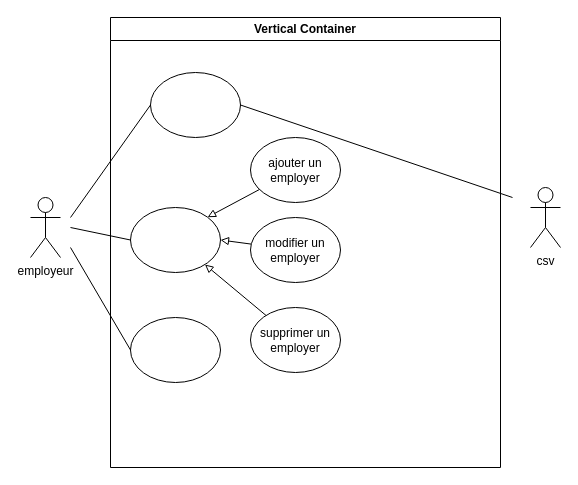
Some shapes in this 578 by 485 pixel diagram are drawn without their labels. Here are the shapes that lost their labels. From the top down, the centre of each, then its label:
At pixel 195 105: "sauvgarder les modifications".
At pixel 175 239: "gerer les employé".
At pixel 175 349: "afficher les employer".
